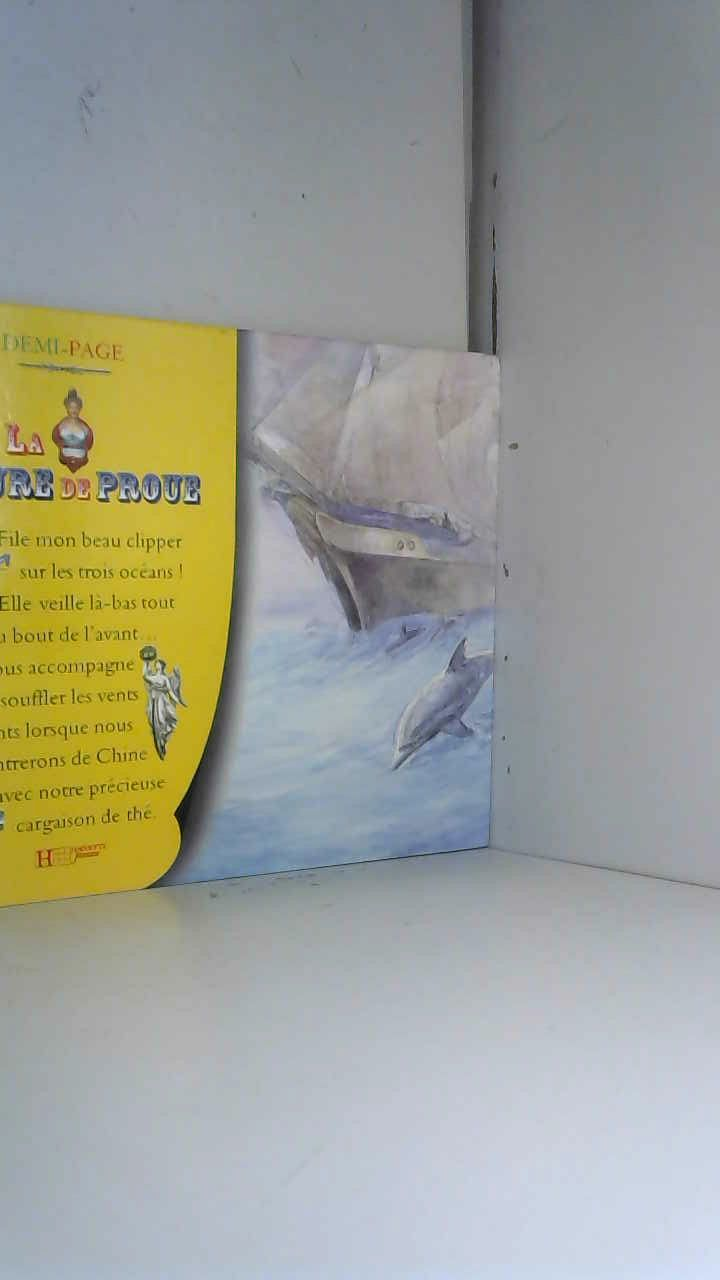book: (0, 267, 528, 938)
